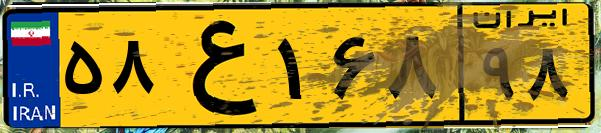1: (270, 28, 330, 110)
5: (57, 26, 110, 100)
6: (330, 28, 385, 110)
8: (385, 28, 445, 110), (525, 38, 570, 115), (110, 28, 158, 98)
9: (475, 38, 525, 113)
ع: (158, 12, 270, 120)
